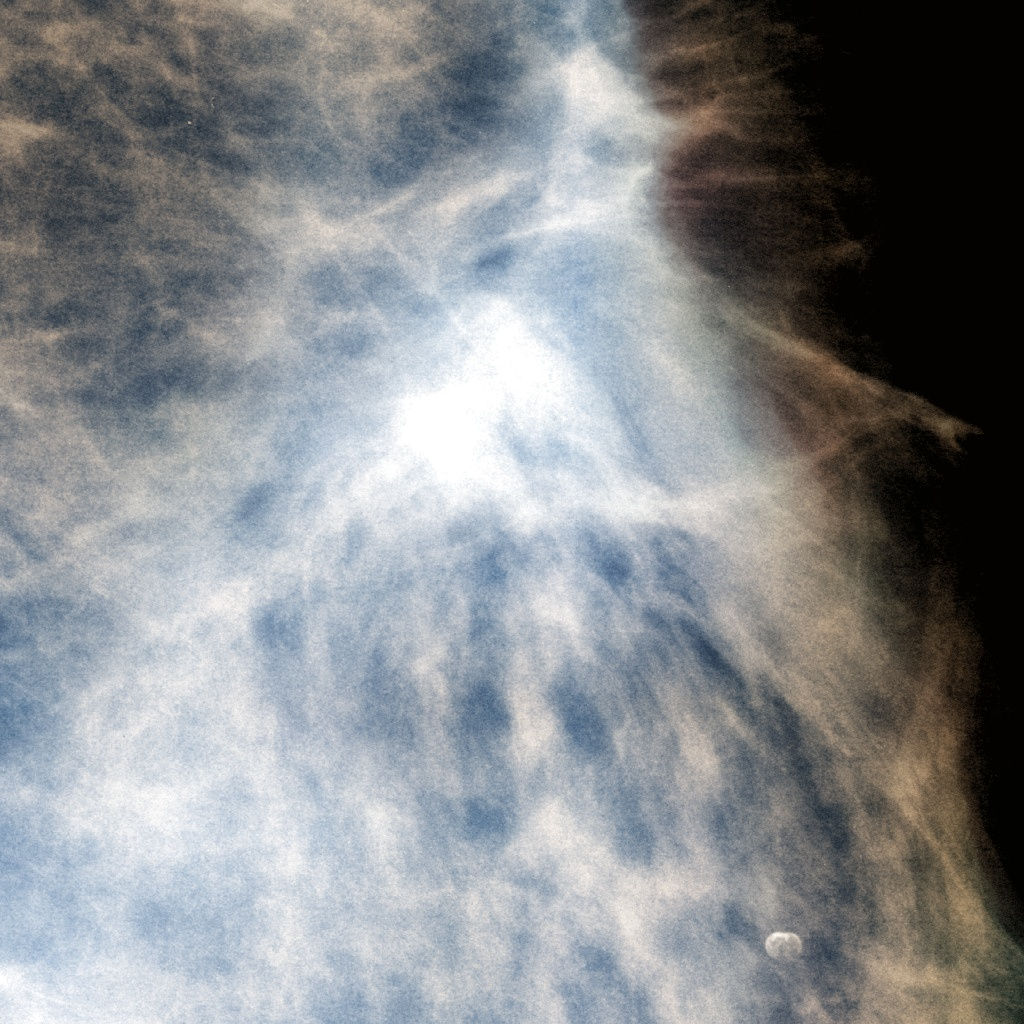tumor: (252, 227, 772, 797)
